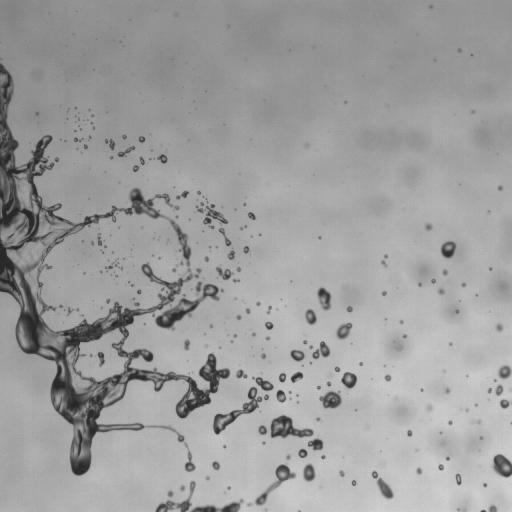droplet: (196, 202, 227, 228), (491, 454, 511, 477), (319, 390, 341, 408), (317, 287, 331, 310), (252, 377, 273, 392), (312, 341, 330, 358), (341, 372, 357, 390), (440, 241, 456, 258), (336, 322, 352, 339), (216, 266, 233, 279), (303, 463, 315, 481), (307, 437, 323, 450), (498, 365, 511, 379), (290, 349, 304, 361), (305, 309, 316, 324), (290, 372, 303, 382), (276, 389, 286, 402), (500, 398, 511, 409), (105, 139, 115, 149), (236, 369, 247, 378), (494, 384, 503, 395), (97, 352, 104, 366), (157, 154, 167, 163), (258, 425, 267, 434), (298, 448, 307, 457), (212, 461, 220, 470), (184, 339, 190, 350), (265, 321, 273, 329), (227, 250, 234, 259), (278, 373, 285, 382), (36, 279, 42, 289), (455, 474, 461, 484), (495, 324, 503, 331), (248, 212, 255, 219), (425, 223, 432, 230), (426, 404, 433, 411), (243, 246, 249, 253), (385, 374, 391, 381), (167, 490, 173, 497), (138, 136, 144, 142), (133, 165, 139, 171), (438, 288, 444, 294), (416, 468, 422, 474), (381, 259, 386, 266), (140, 157, 144, 165), (442, 269, 447, 275), (347, 306, 352, 312), (67, 308, 72, 314), (407, 430, 412, 436), (438, 464, 443, 470), (339, 470, 344, 476), (180, 485, 185, 491), (497, 185, 502, 190), (245, 308, 250, 313), (261, 353, 266, 358), (334, 366, 339, 371), (326, 381, 331, 386), (445, 387, 449, 393), (204, 256, 208, 261), (137, 289, 141, 294), (256, 301, 260, 306), (236, 315, 241, 319), (448, 420, 452, 425), (286, 454, 290, 459), (232, 279, 238, 282), (384, 254, 388, 258), (236, 267, 240, 271), (431, 279, 435, 283), (382, 291, 386, 295), (455, 309, 459, 313), (303, 340, 307, 344), (488, 388, 492, 392), (445, 456, 449, 460), (352, 481, 356, 485), (483, 483, 487, 487), (462, 282, 465, 287), (35, 112, 39, 115), (122, 135, 126, 138), (403, 334, 406, 338), (266, 336, 269, 340), (316, 417, 320, 420), (321, 455, 325, 458), (84, 145, 87, 148), (197, 191, 200, 194), (241, 226, 244, 229), (130, 283, 133, 286), (106, 299, 109, 302), (400, 320, 403, 323), (252, 333, 255, 336), (399, 346, 402, 349), (359, 362, 362, 365), (317, 386, 320, 389), (206, 476, 209, 479), (457, 49, 461, 51), (472, 110, 474, 113), (305, 144, 308, 146), (418, 283, 421, 285), (209, 325, 212, 327), (309, 346, 312, 348), (509, 388, 511, 391), (465, 409, 468, 411), (223, 445, 226, 447), (244, 203, 246, 205), (114, 273, 116, 275), (60, 305, 62, 307), (234, 335, 236, 337), (449, 342, 451, 344), (329, 374, 331, 376), (475, 404, 477, 406)
ligament: (0, 62, 230, 471), (155, 480, 243, 511), (213, 386, 268, 434), (247, 464, 296, 506), (269, 415, 313, 438), (372, 470, 393, 499), (184, 451, 195, 471), (219, 227, 231, 245), (117, 146, 134, 157), (106, 262, 122, 270), (176, 190, 188, 199), (480, 505, 497, 511), (97, 233, 102, 245), (470, 419, 481, 424), (267, 306, 271, 314), (74, 138, 81, 141), (457, 509, 466, 511)
